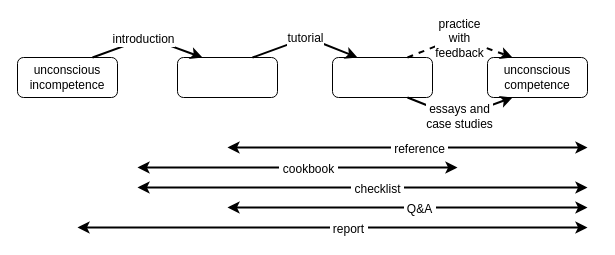
Some shapes in this 615 by 255 pixel diagram are drawn without their labels. The centre of each missing label's shape, as x and y in pixels:
"conscious competence" goes at (382,77).
"conscious incompetence" goes at (227,77).
